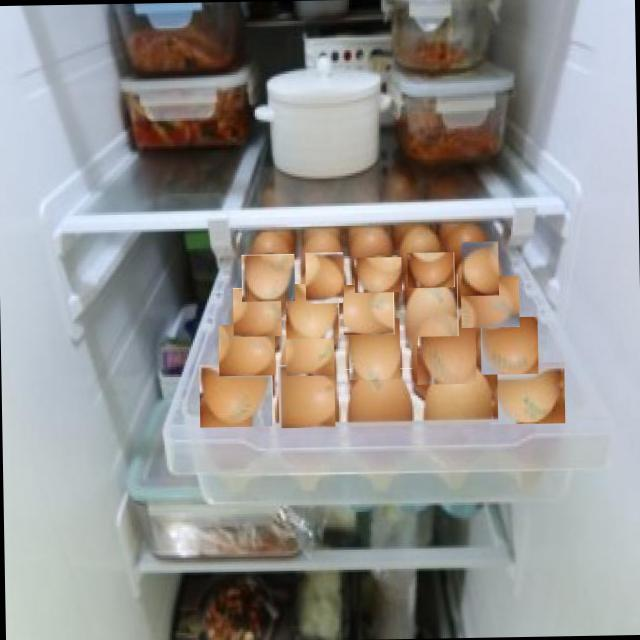eggs: (422, 358, 498, 423), (199, 362, 273, 427), (489, 362, 566, 424), (416, 312, 477, 384), (344, 368, 413, 426), (276, 366, 336, 427), (480, 316, 539, 374), (348, 316, 402, 379), (404, 274, 458, 336), (462, 273, 518, 329), (219, 322, 274, 378), (286, 282, 340, 338), (282, 321, 336, 374), (240, 254, 296, 302), (343, 284, 394, 335), (232, 288, 281, 336), (456, 244, 503, 292), (302, 254, 348, 300), (353, 255, 402, 292), (406, 251, 454, 288)
